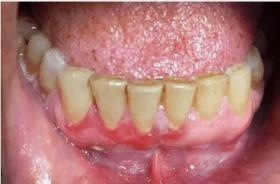Gingivitis: (107, 131, 175, 150)
